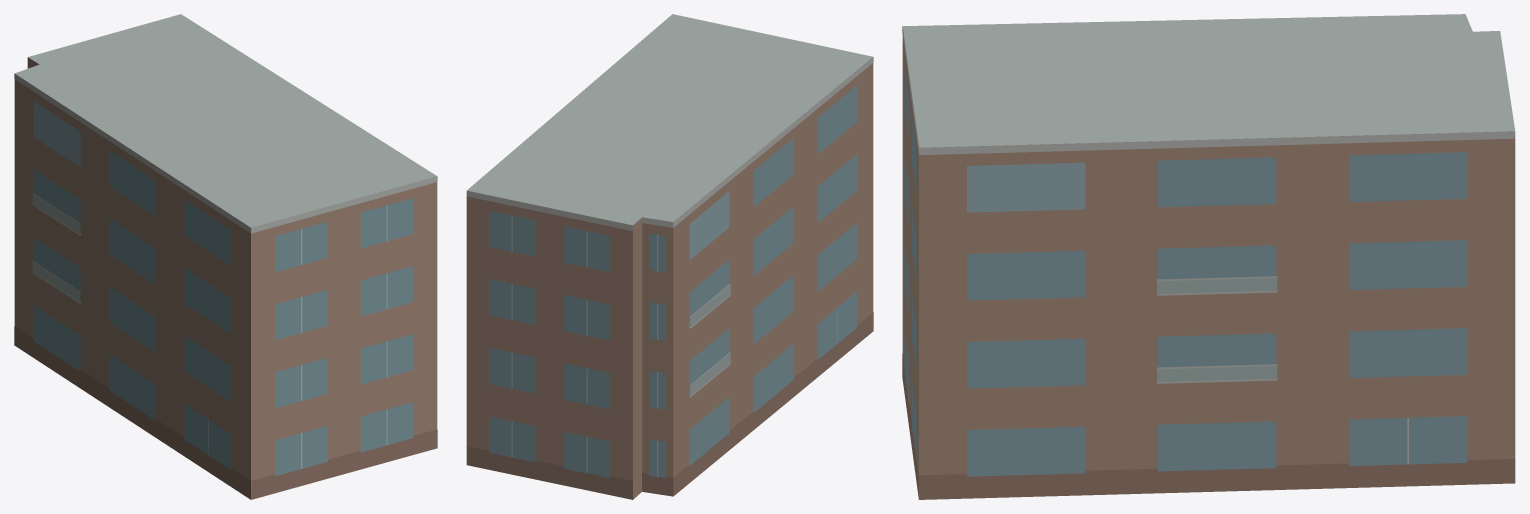
File: survey-upis-32940760.glb
3 renders of one model, left to right at view 1: azimuth 30°, elevation 25°; view 2: azimuth 150°, elevation 25°; view 3: azimuth 270°, elevation 25°, orthographic. The views are drawn at different scales.
Parts seen in each view (by area): view 1: survey-upis-32940760.tmp; view 2: survey-upis-32940760.tmp; view 3: survey-upis-32940760.tmp.
Part boxes in pixels (left/top/right/bottom): survey-upis-32940760.tmp: left=14, top=14, right=437, bottom=499; survey-upis-32940760.tmp: left=466, top=14, right=873, bottom=499; survey-upis-32940760.tmp: left=902, top=14, right=1515, bottom=499.
Bounding box in the file's own units: 9.46 × 11.6 × 18.31.
